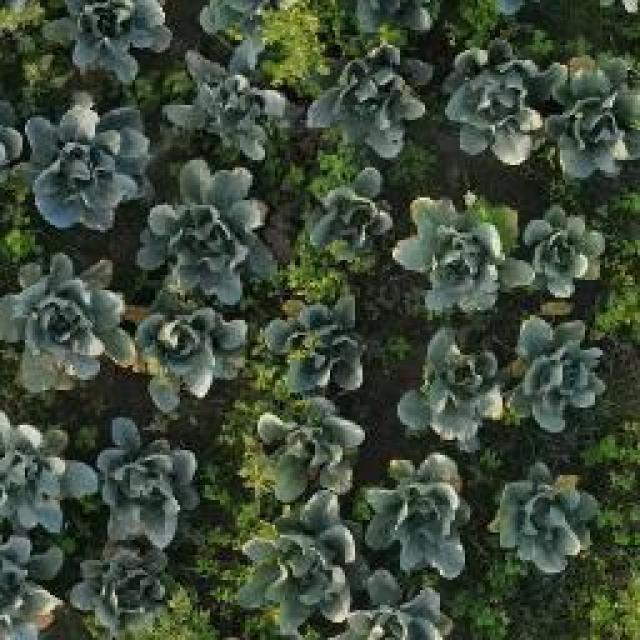cabbage: (0, 249, 137, 396), (142, 158, 280, 301), (24, 91, 149, 228), (239, 490, 358, 632), (394, 191, 535, 310), (303, 42, 434, 166), (364, 453, 483, 579), (166, 50, 298, 162), (441, 42, 546, 170), (399, 324, 505, 449), (85, 432, 195, 550), (498, 315, 608, 433), (247, 392, 367, 498), (134, 302, 251, 408), (266, 288, 372, 397), (0, 417, 96, 535), (501, 461, 601, 573), (71, 540, 181, 636), (42, 0, 175, 76), (335, 572, 468, 640), (542, 83, 640, 174), (311, 162, 398, 260), (520, 204, 608, 299), (1, 537, 68, 640)
